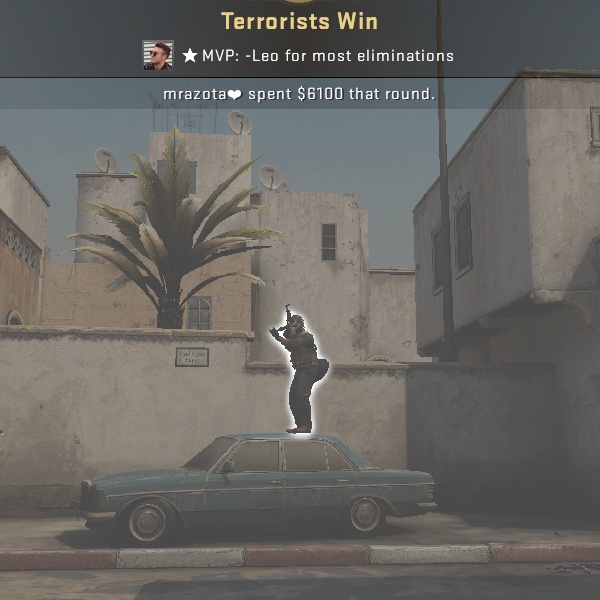t_body: (267, 301, 329, 435)
